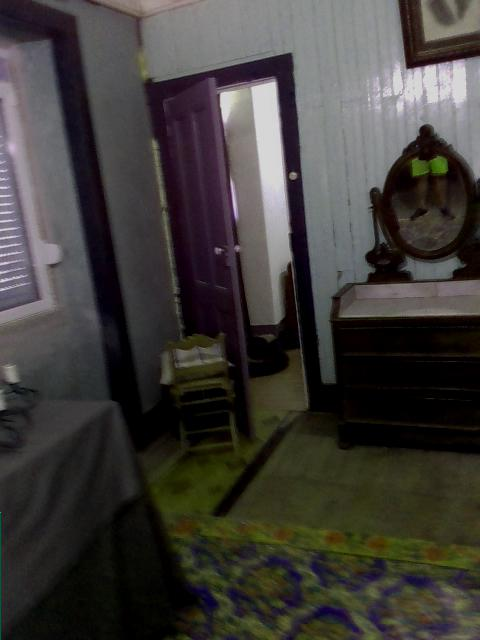semi_door: (143, 52, 327, 441)
